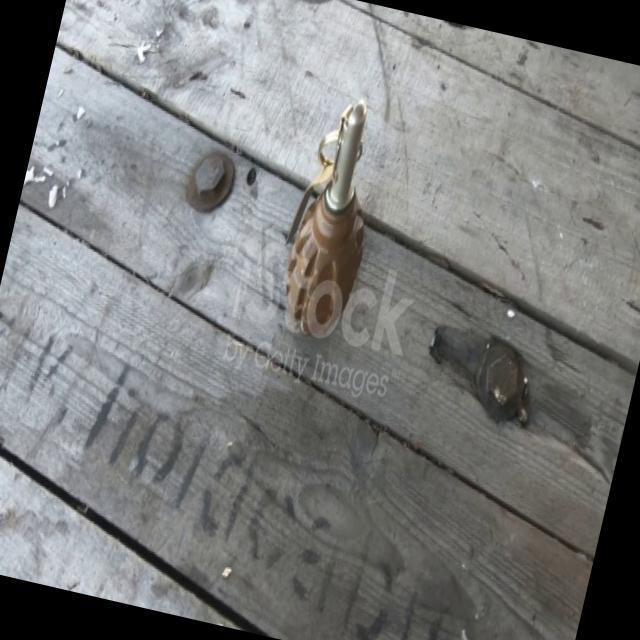grenade: (262, 97, 394, 352)
